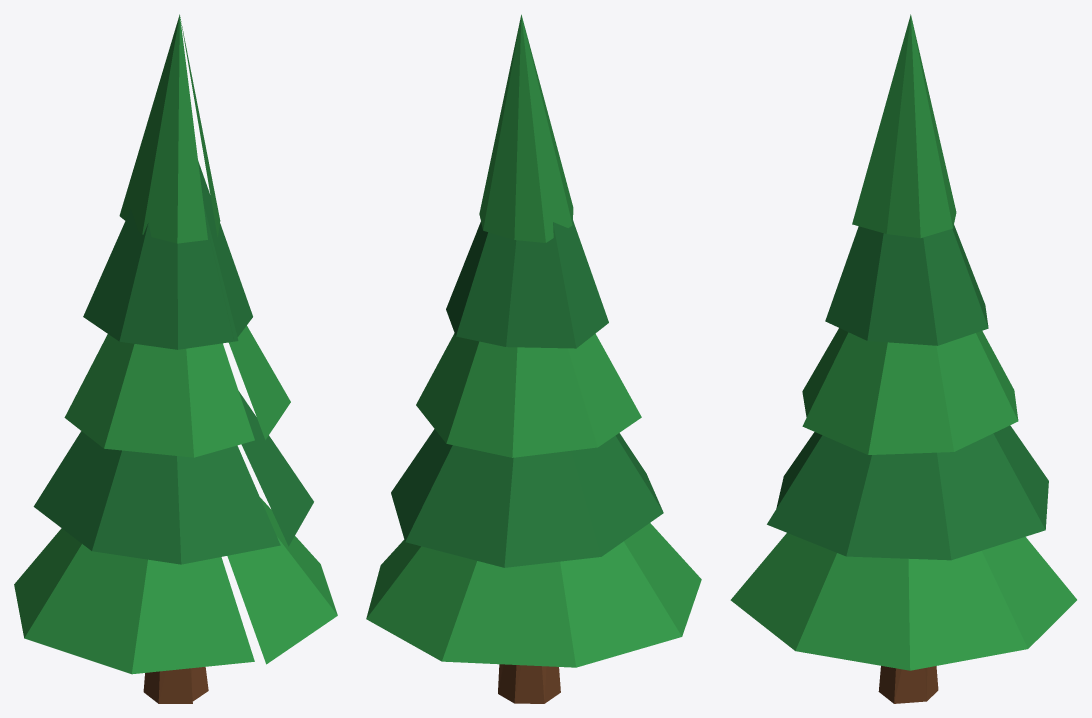
File: pino_alto_v2.glb
3 views of the same model, side by side, from view 1: azimuth 30°, elevation 25°; view 2: azimuth 150°, elevation 25°; view 3: azimuth 270°, elevation 25° (orthographic).
Visible parts, largest first — view 1: copa_1, copa_2, copa_3, copa_4, copa_5, tronco; view 2: copa_1, copa_2, copa_3, copa_4, copa_5, tronco; view 3: copa_1, copa_2, copa_3, copa_4, copa_5, tronco.
Part boxes in pixels (x1,y1,x2,y2): copa_1: (14, 497, 337, 674); copa_2: (33, 391, 313, 564); copa_3: (64, 325, 290, 457); copa_4: (83, 160, 252, 349); copa_5: (119, 14, 220, 243); tronco: (143, 667, 208, 703); copa_1: (366, 523, 701, 667); copa_2: (391, 429, 663, 567); copa_3: (416, 333, 641, 457); copa_4: (446, 212, 608, 348); copa_5: (479, 14, 573, 242); tronco: (498, 664, 560, 703); copa_1: (730, 533, 1076, 670); copa_2: (767, 425, 1048, 560); copa_3: (802, 328, 1018, 454); copa_4: (825, 225, 988, 345); copa_5: (852, 14, 956, 238); tronco: (878, 666, 938, 703).
Size of the model in its own units: 3.41 by 7.38 by 3.41.
